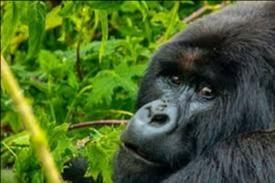goriile_montagne: (115, 0, 275, 183)
